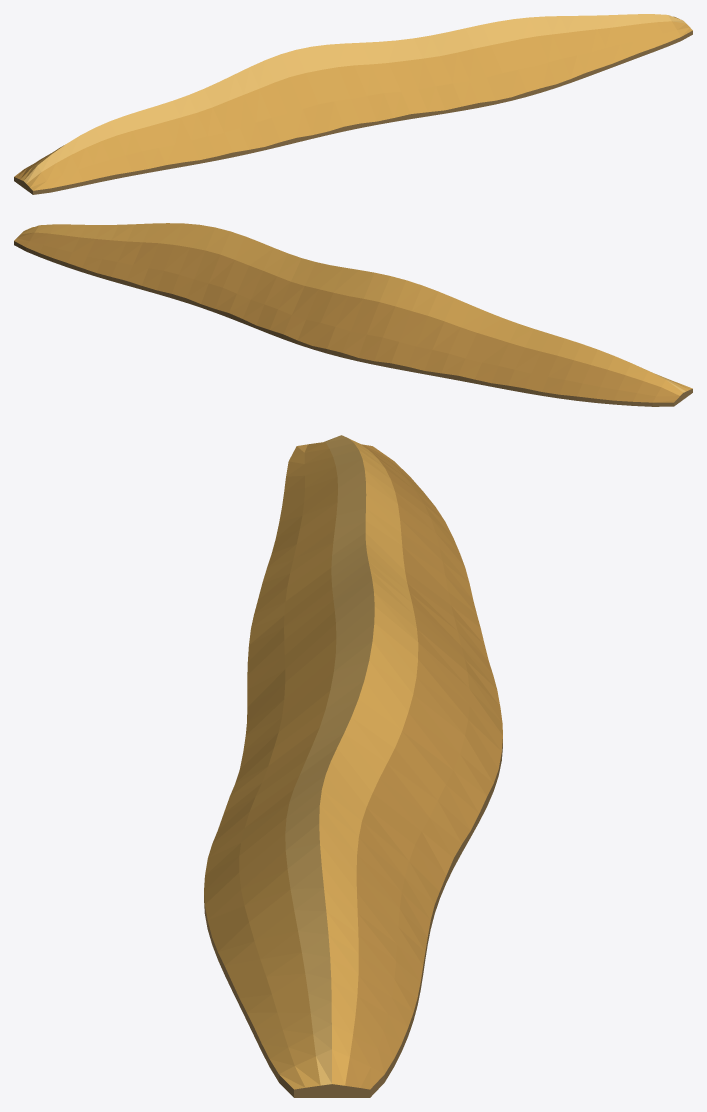
Rendered from linear-dune.glb.
3 renders of one model, top to bottom at view 1: azimuth 30°, elevation 25°; view 2: azimuth 150°, elevation 25°; view 3: azimuth 270°, elevation 25°, orthographic. The views are drawn at different scales.
Visible parts, largest first — view 1: one_longitudinal_sinuous_two_flank_sand_ridge; view 2: one_longitudinal_sinuous_two_flank_sand_ridge; view 3: one_longitudinal_sinuous_two_flank_sand_ridge.
Part boxes in pixels (x1,y1,x2,y2): one_longitudinal_sinuous_two_flank_sand_ridge: (14, 14, 692, 194); one_longitudinal_sinuous_two_flank_sand_ridge: (14, 223, 692, 406); one_longitudinal_sinuous_two_flank_sand_ridge: (204, 435, 502, 1097).
Bounding box in the file's own units: 200 × 17.96 × 39.3.
